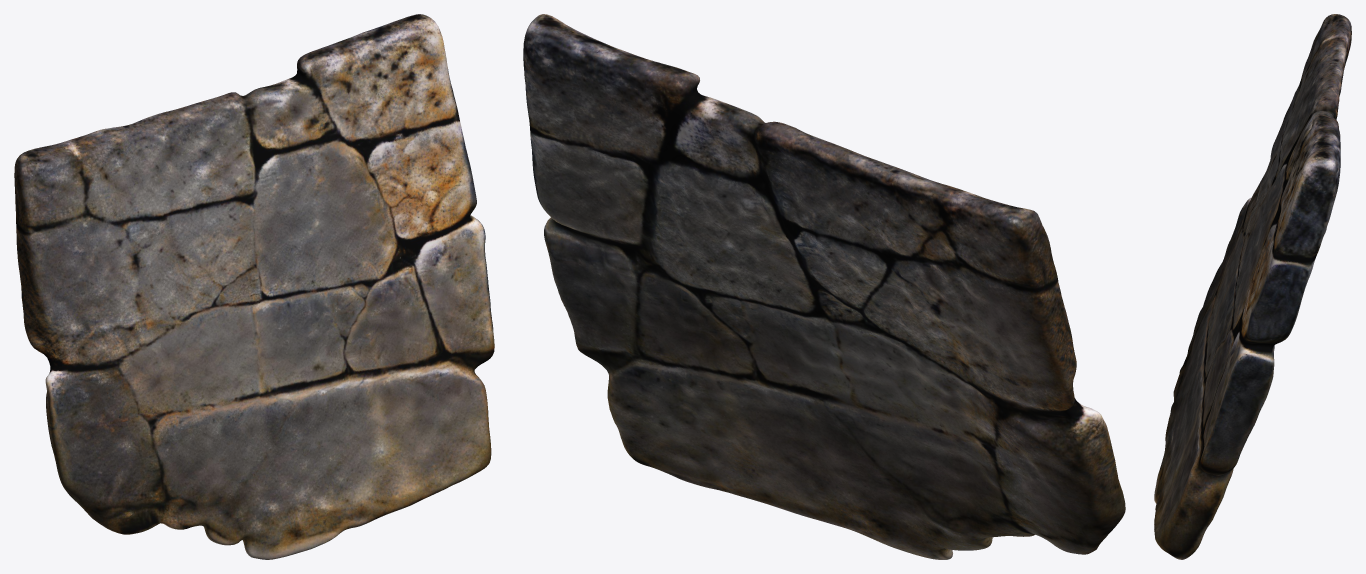
Rendered from 61d852717284_f3175d28ef95_An_ancient_powerful.glb.
3 views of the same model, side by side, from view 1: azimuth 30°, elevation 25°; view 2: azimuth 150°, elevation 25°; view 3: azimuth 270°, elevation 25° (orthographic). The views are drawn at different scales.
Visible parts, largest first — view 1: high_poly; view 2: high_poly; view 3: high_poly.
Part boxes in pixels (x1,y1,x2,y2): high_poly: (14, 14, 494, 559); high_poly: (523, 14, 1125, 559); high_poly: (1154, 14, 1351, 559).
Size of the model in its own units: 1 by 0.9417 by 0.3846.
Materials: 1 (1 with a texture image).
